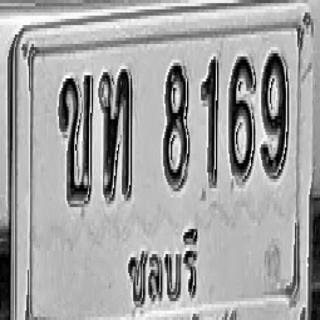A02: (58, 74, 93, 205)
A23: (99, 66, 132, 201)
N01: (200, 56, 219, 188)
N06: (228, 55, 255, 180)
N08: (163, 61, 189, 190)
N09: (260, 50, 288, 179)
P13: (123, 224, 203, 319)
